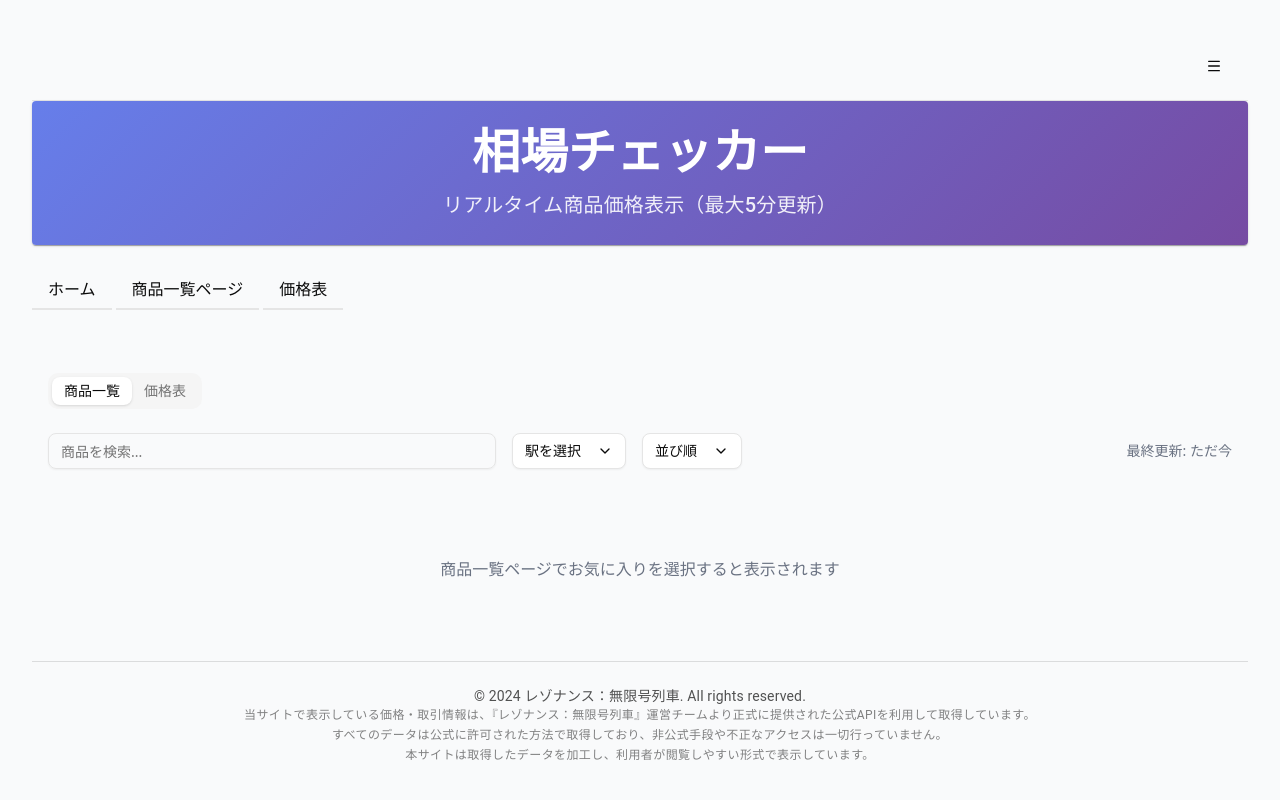
it: Home › renders fallback items and station headers in price table
expect the tab "商品一覧" is shown: met, box [52, 377, 132, 405]
Step 1. Click the tab "価格表" → [165, 391], box [132, 377, 198, 405]
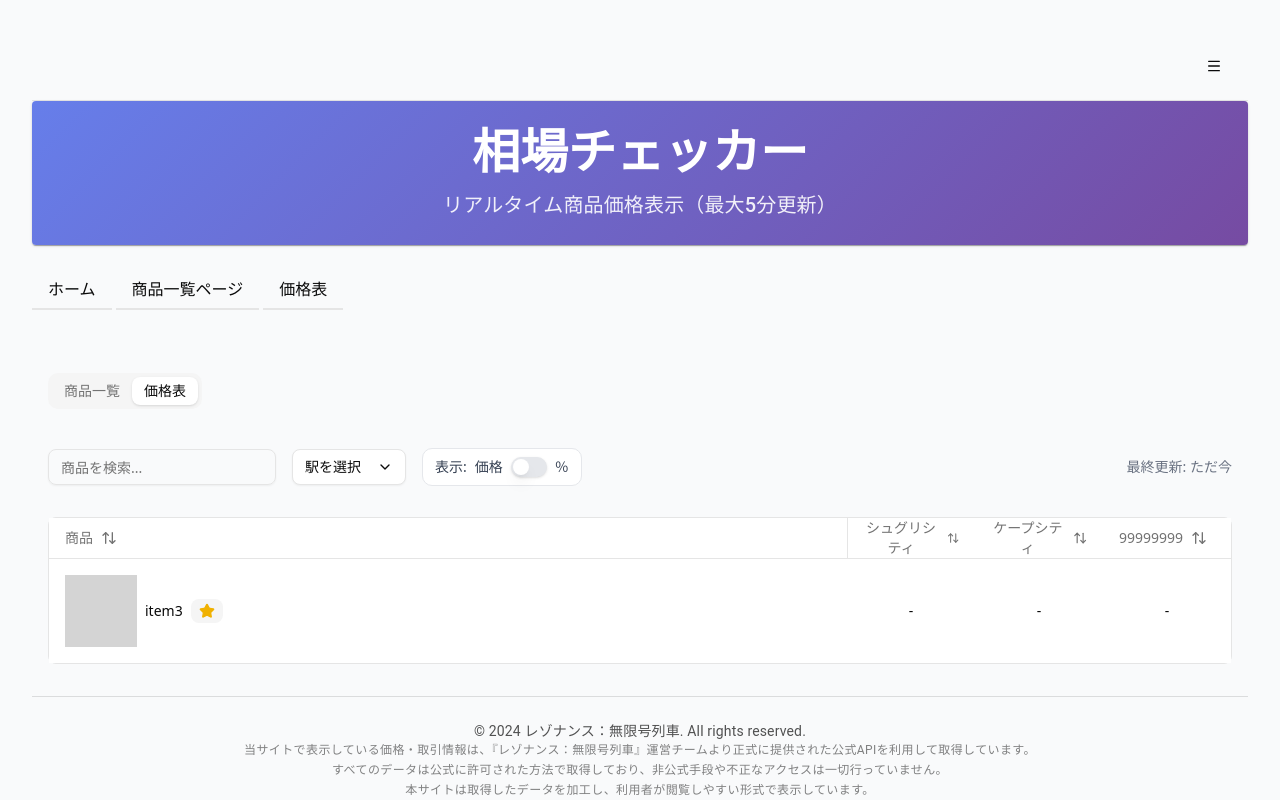
expect the 1st text "-" is shown: met, box [909, 601, 913, 621]
expect the text "item3" is shown: met, box [145, 601, 183, 621]
expect the button "99999999" is shown: met, box [1119, 528, 1207, 548]
Step 2. Click the switch named "価格/％表示切替" → [529, 467], box [511, 457, 547, 477]
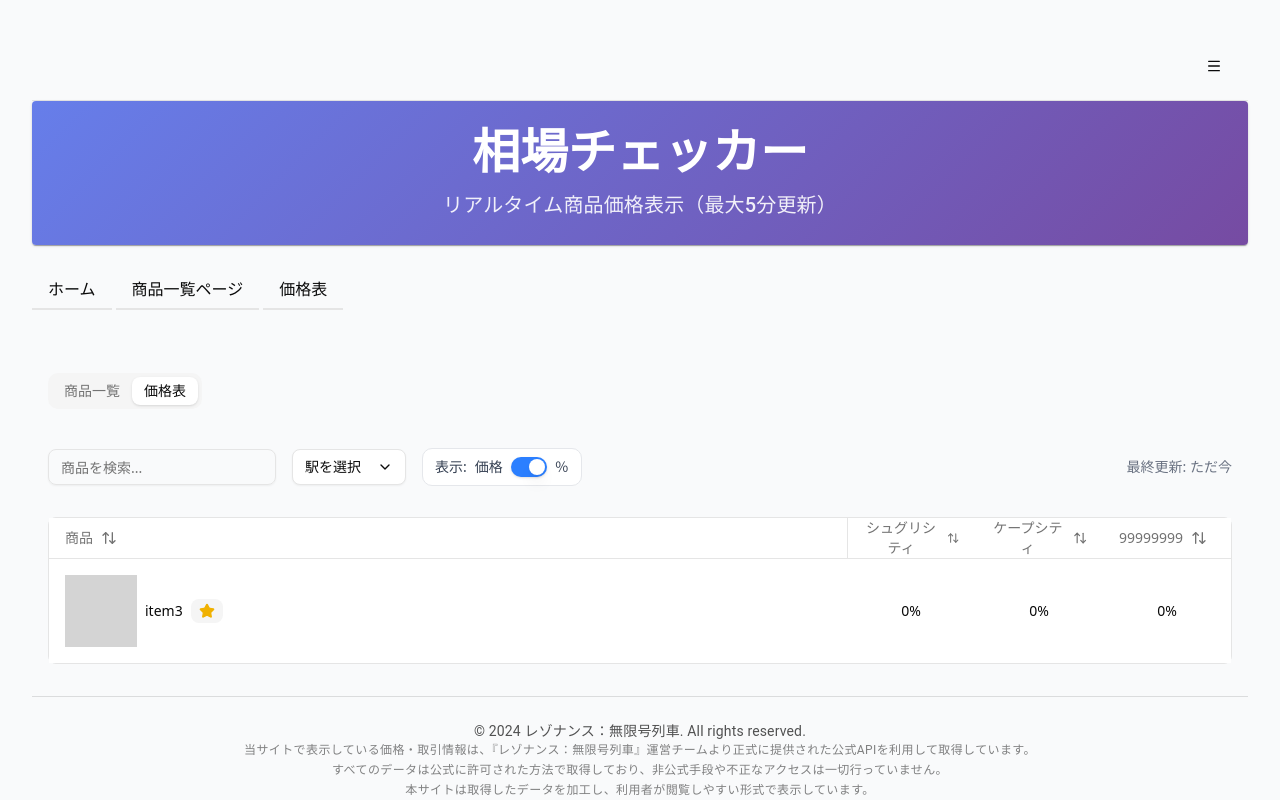
expect the 1st text "0%" is shown: met, box [901, 601, 921, 621]
